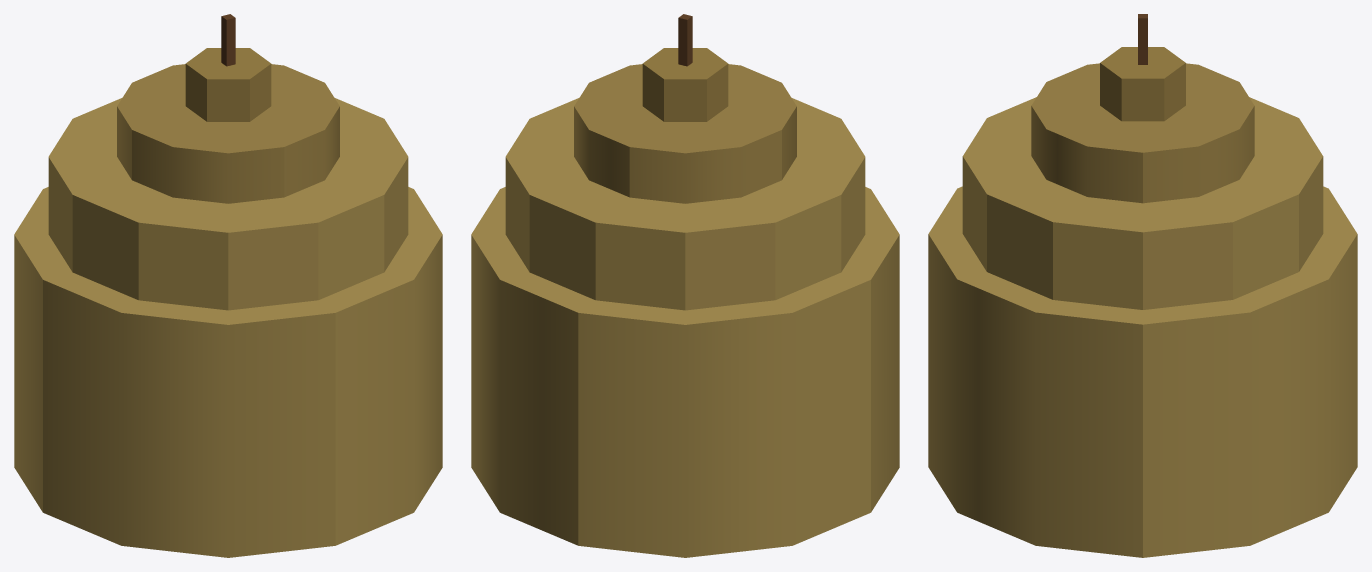
The model's file is bg_field_haystack_1_lod0.glb.
3 renders of one model, left to right at view 1: azimuth 30°, elevation 25°; view 2: azimuth 150°, elevation 25°; view 3: azimuth 270°, elevation 25°, orthographic.
Parts seen in each view (by area): view 1: body; view 2: body; view 3: body.
Part boxes in pixels (x1,y1,x2,y2): body: (14,14,442,557); body: (471,14,899,557); body: (928,14,1357,557).
Bounding box in the file's own units: 2.5 × 2.9 × 2.5.
